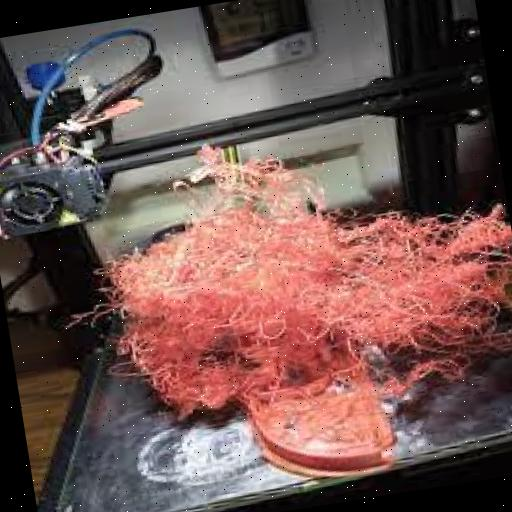spaghetti: (45, 112, 495, 440)
